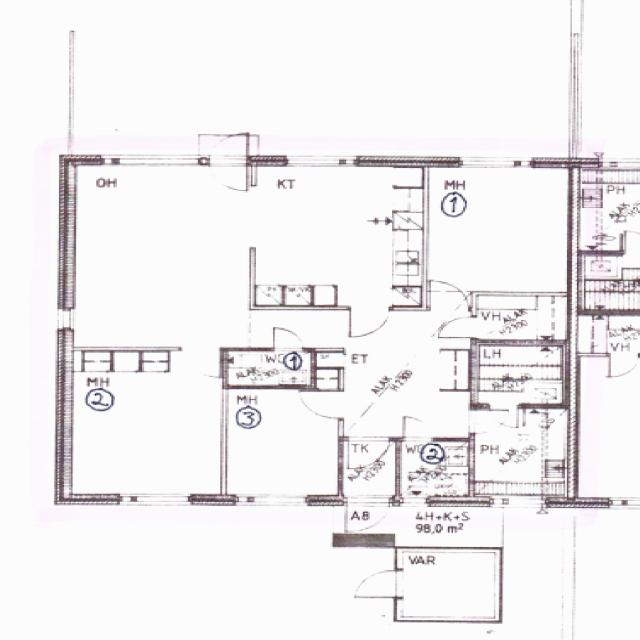door: (346, 496, 389, 538), (208, 154, 246, 192), (208, 128, 246, 166), (348, 436, 388, 469), (357, 570, 403, 598), (350, 306, 389, 338), (298, 391, 344, 418), (181, 347, 219, 379), (431, 280, 468, 310), (471, 410, 509, 433), (442, 316, 476, 338), (404, 416, 432, 441), (490, 404, 518, 428), (274, 327, 302, 351)
